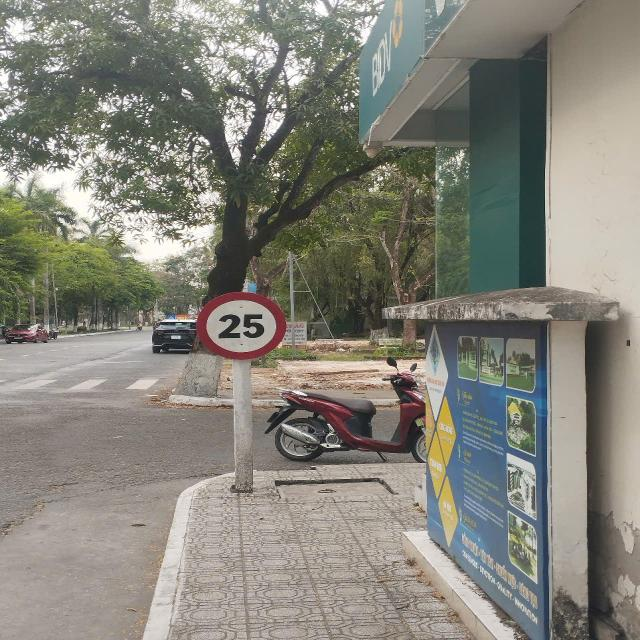Tre_Em: (196, 292, 286, 361)
